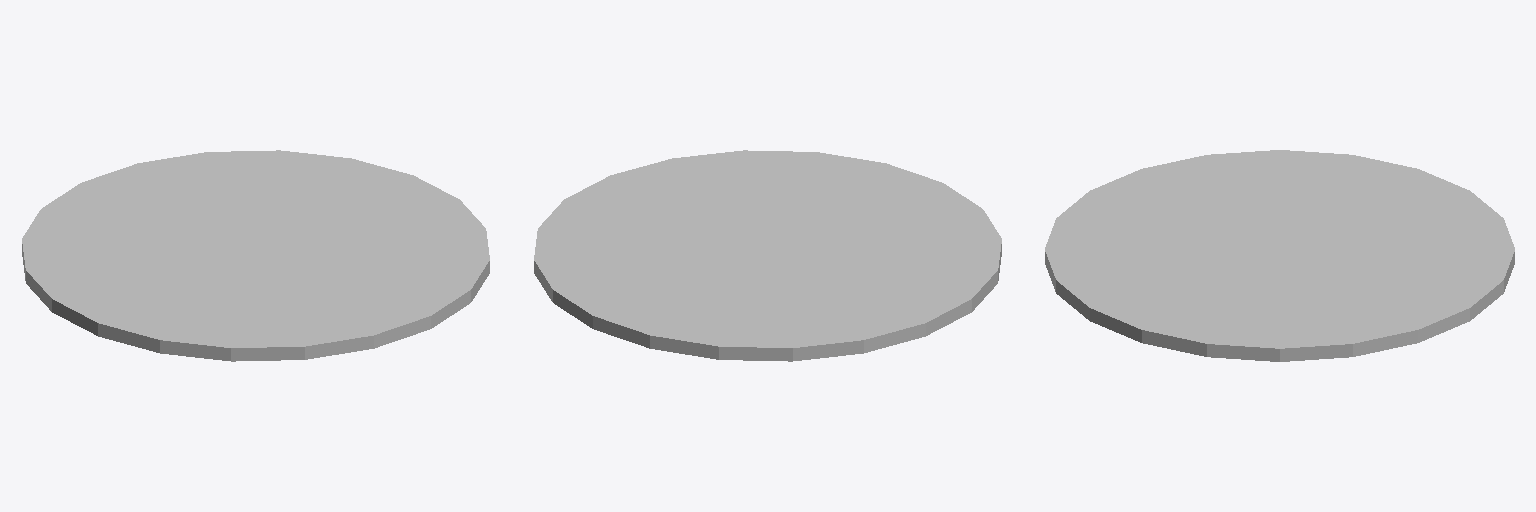
Rendered from turntable.obj.
3 views of the same model, side by side, from view 1: azimuth 30°, elevation 25°; view 2: azimuth 150°, elevation 25°; view 3: azimuth 270°, elevation 25° (orthographic).
Size of the model in its own units: 66.19 by 2.06 by 66.19.